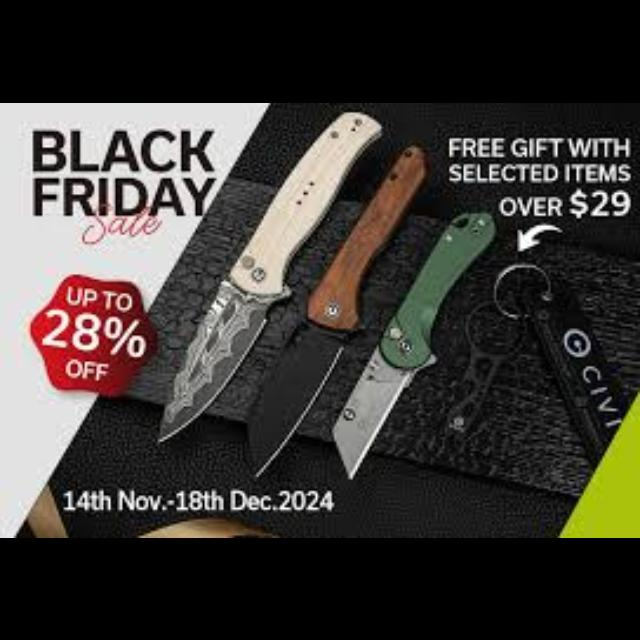Knife: (156, 109, 380, 443), (245, 140, 428, 476), (329, 208, 496, 478)
